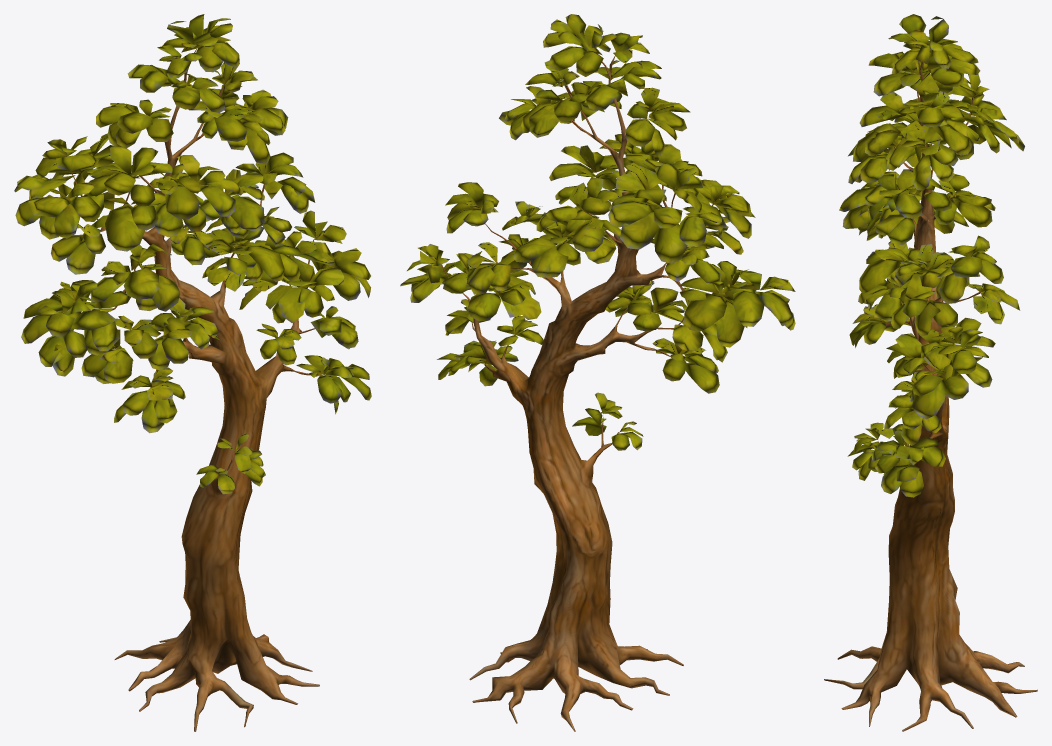
The model's file is oak.glb.
3 renders of one model, left to right at view 1: azimuth 30°, elevation 25°; view 2: azimuth 150°, elevation 25°; view 3: azimuth 270°, elevation 25°, orthographic.
Visible parts, largest first — view 1: geometry_0; view 2: geometry_0; view 3: geometry_0.
Boxes of the visible parts, x1,y1,x2,y2 form: geometry_0: (14,14,371,731); geometry_0: (400,14,795,731); geometry_0: (824,14,1037,731).
Bounding box in the file's own units: 0.5381 × 0.9521 × 0.2798.
Materials: 1 (1 with a texture image).
